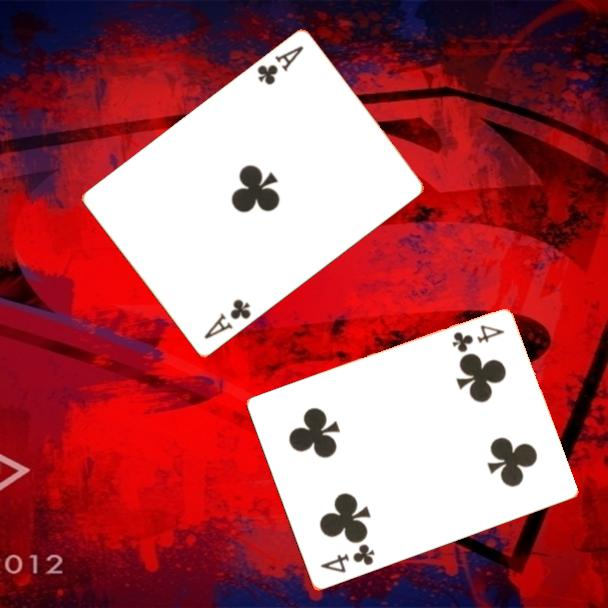c01: (253, 42, 306, 89), (200, 296, 254, 342)
c04: (316, 541, 378, 576), (448, 322, 507, 355)
